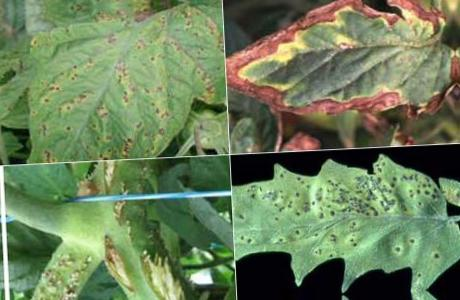Tomato leaf bacterial spot: (228, 0, 450, 144), (19, 1, 219, 159), (232, 154, 460, 291)
